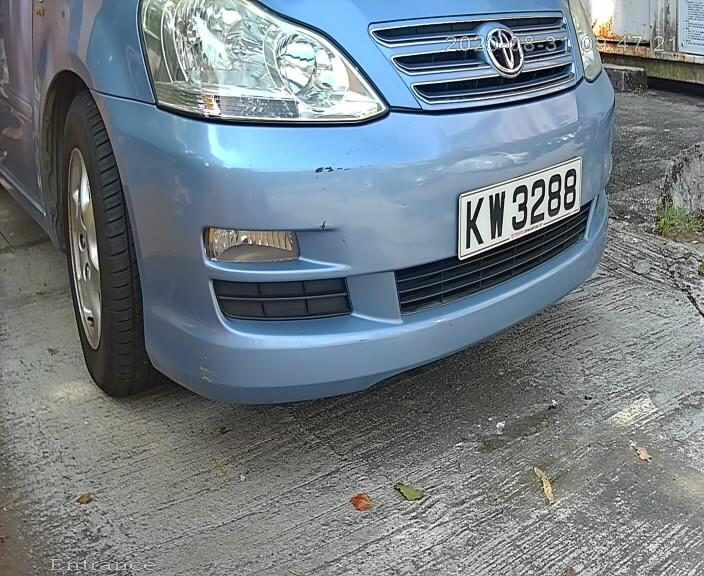License Plate: (447, 150, 591, 265)
